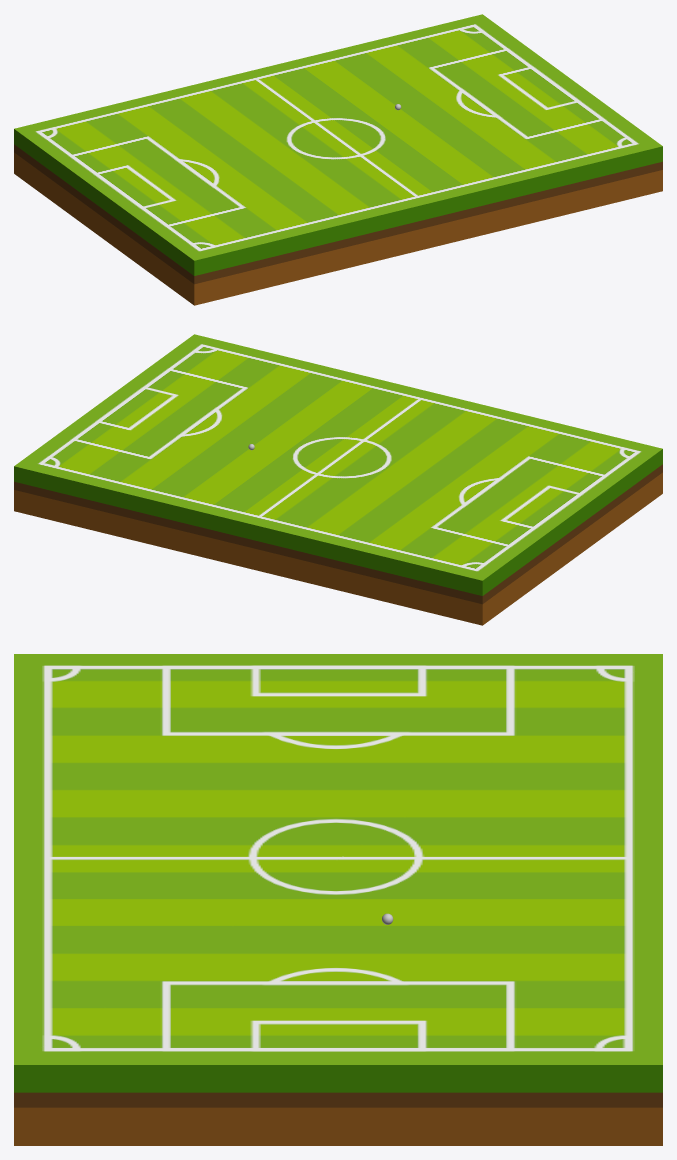
Rendered from Campo.fbx.
3 views of the same model, one above another, from view 1: azimuth 30°, elevation 25°; view 2: azimuth 150°, elevation 25°; view 3: azimuth 270°, elevation 25° (orthographic). The views are drawn at different scales.
Visible parts, largest first — view 1: Cube; view 2: Cube; view 3: Cube.
Part boxes in pixels (x1=…): Cube: x1=14, y1=14, x2=662, y2=305; Cube: x1=14, y1=334, x2=662, y2=625; Cube: x1=14, y1=654, x2=662, y2=1145.
Size of the model in its own units: 3800 by 391 by 2533.
